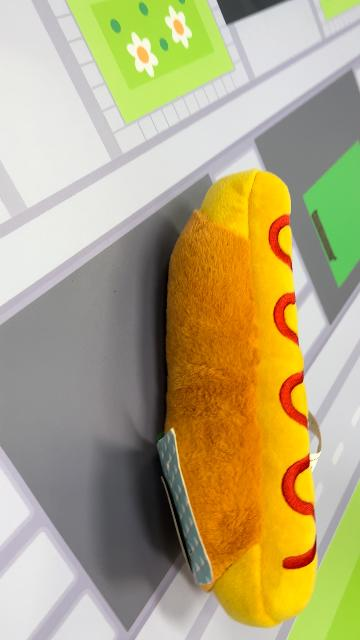hotdog: (156, 168, 320, 630)
